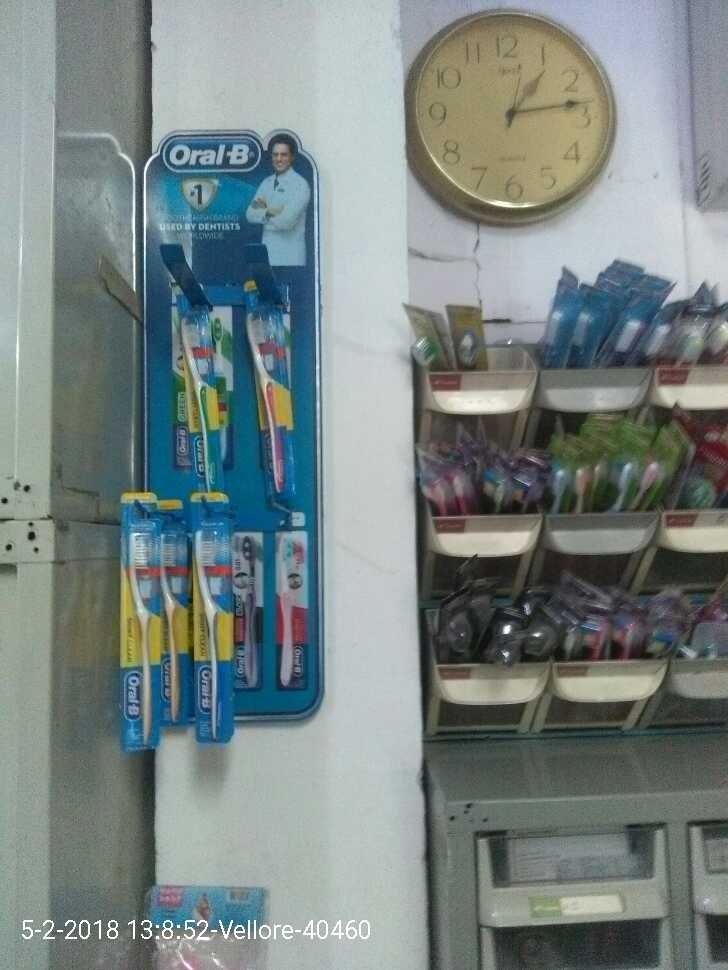oralb: (183, 530, 238, 746), (241, 302, 296, 512), (177, 312, 221, 486), (124, 526, 156, 747)
